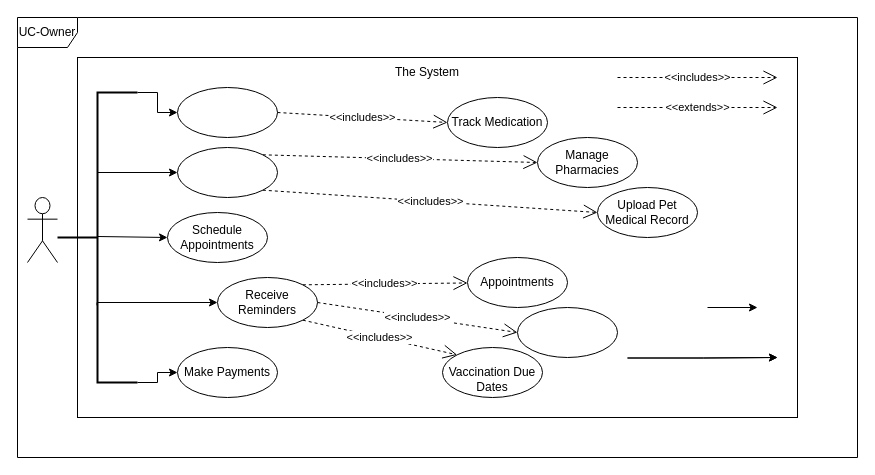
Image size: 875x475. Some labels were removed from this diagram. Here are the shapes that lost their labels. From the top down, the centre of each, then its label:
[227,112]: View Pet Medical Record
[227,172]: Manage Pet Profile
[42,229]: Owner
[567,332]: Medication Refill
